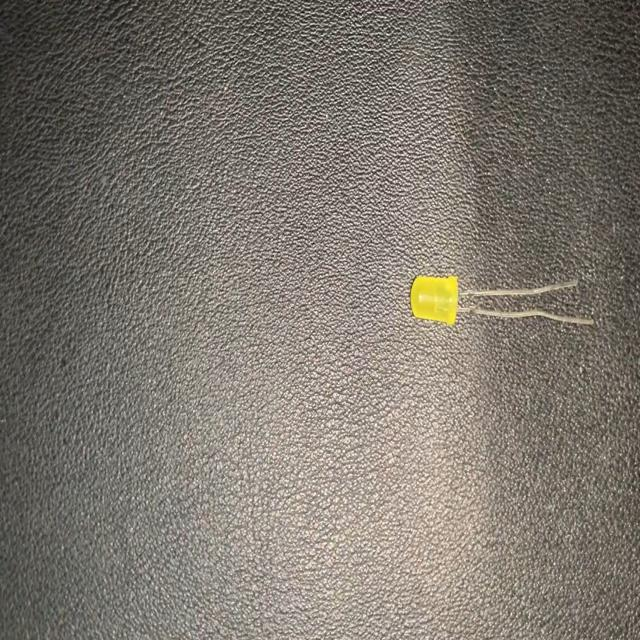LED: (410, 271, 596, 333)
